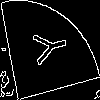Y: (25, 25, 69, 69)
